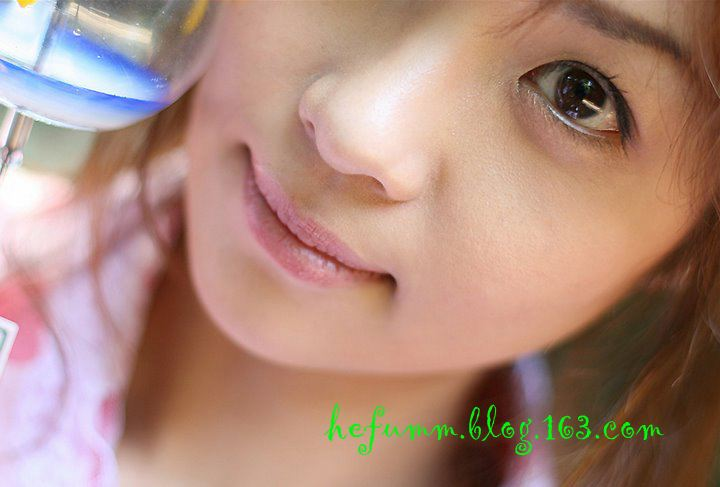person: (180, 6, 705, 384)
